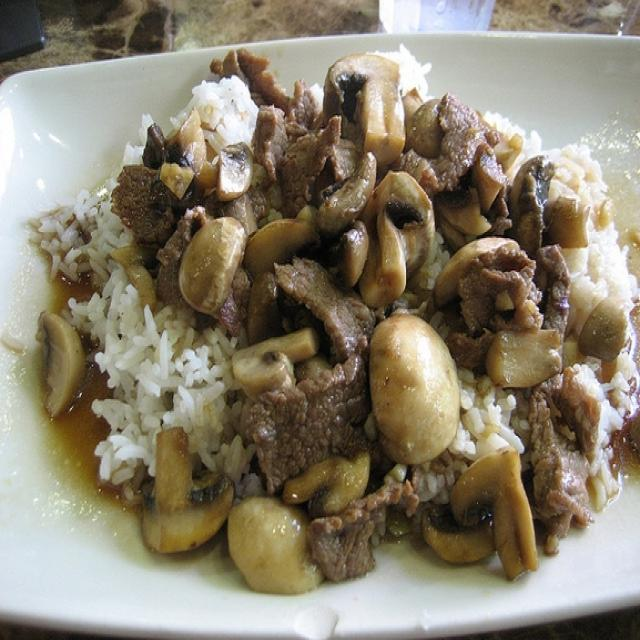牛肉菜式: (31, 27, 626, 612)
